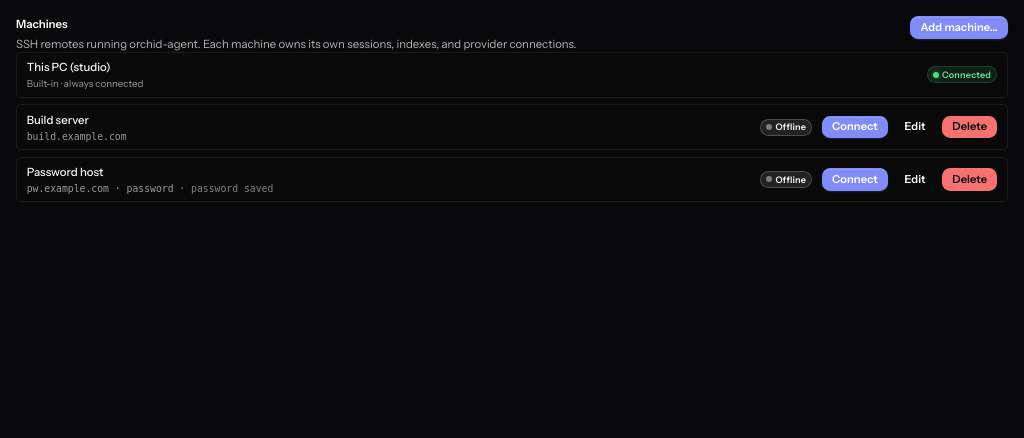
MachinesTab › reveals the password field only for password auth
Click the button "Edit" in the row of "build.example.com".
click(915, 127)  # box x1=894 y1=116 x2=936 y2=138
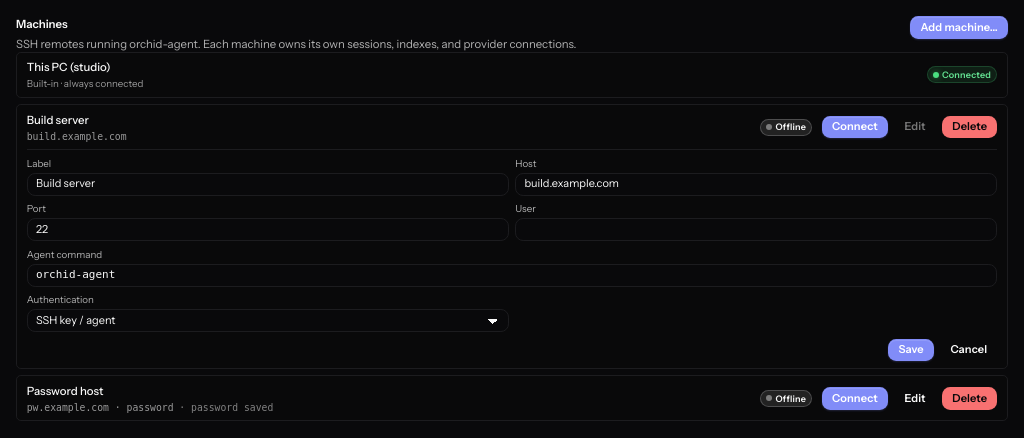
Select "Password" in the dropdown named "Authentication method" at (268,321), box x1=27 y1=309 x2=509 y2=332
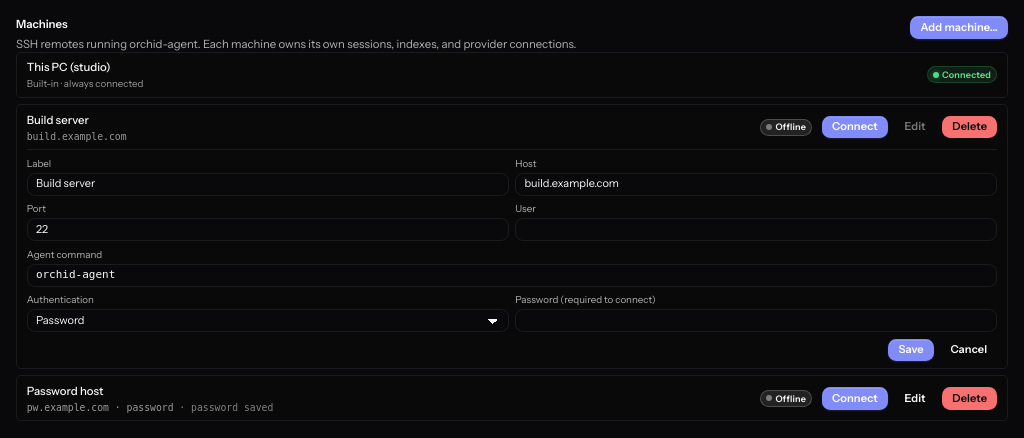
Expected: the text "Password (required to connect)" is shown, x1=515 y1=294 x2=656 y2=305
